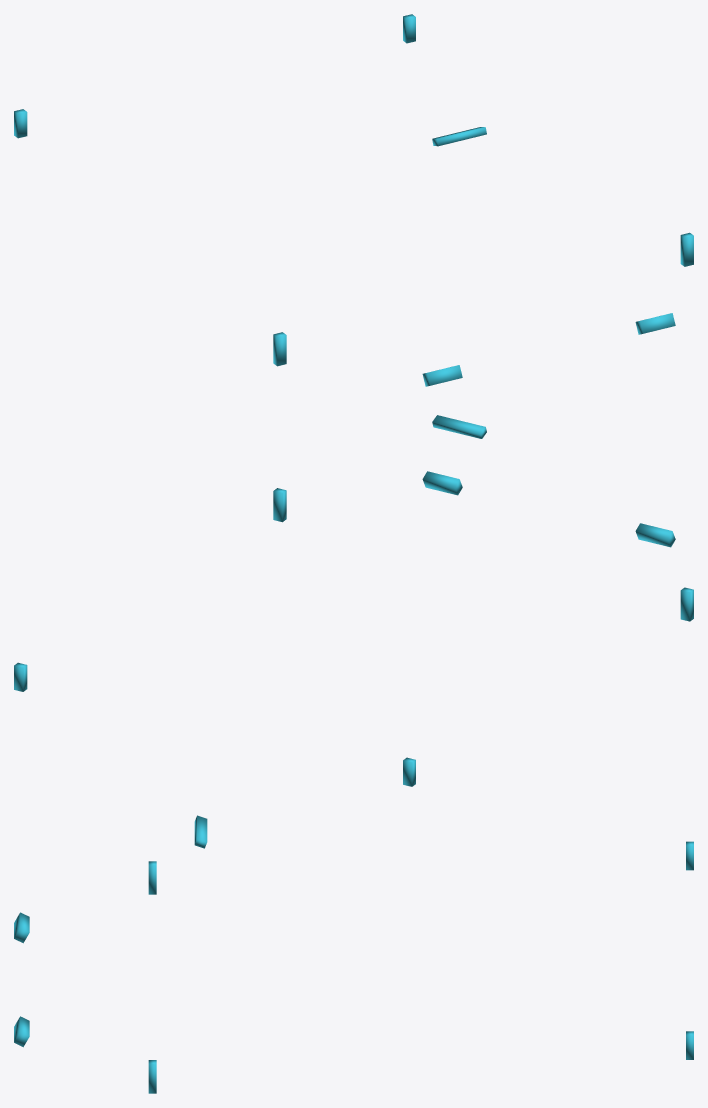
File: apc_emissive.obj
3 views of the same model, one above another, from view 1: azimuth 30°, elevation 25°; view 2: azimuth 150°, elevation 25°; view 3: azimuth 270°, elevation 25° (orthographic).
Parts seen in each view (by area): view 1: apc_emissive; view 2: apc_emissive; view 3: apc_emissive.
Boxes of the visible parts, <box> form: apc_emissive: <box>14,14,693,386</box>; apc_emissive: <box>14,415,693,786</box>; apc_emissive: <box>14,815,693,1093</box>.
Bounding box in the file's own units: 3.6 × 1.36 × 5.09.
